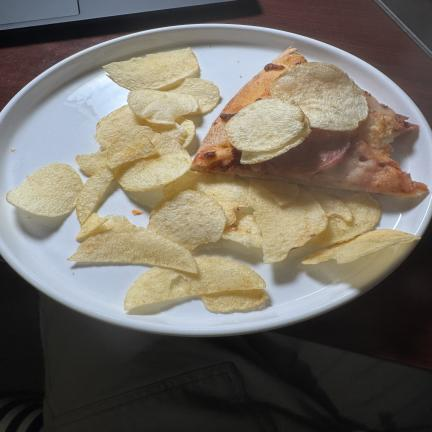chips: (125, 257, 265, 309), (271, 63, 368, 130), (249, 180, 327, 263), (69, 226, 197, 272), (148, 190, 226, 250), (164, 171, 248, 226), (95, 106, 194, 149), (226, 99, 306, 151), (302, 229, 420, 264), (7, 163, 82, 217), (104, 48, 198, 90), (312, 193, 380, 245), (115, 147, 191, 191), (241, 118, 310, 164), (95, 106, 152, 149), (128, 89, 198, 124), (76, 168, 113, 225), (106, 126, 156, 168), (170, 78, 219, 115), (200, 290, 270, 313), (76, 213, 134, 240), (223, 213, 262, 247), (312, 191, 352, 221), (255, 181, 300, 206), (76, 213, 108, 241), (76, 150, 107, 176), (175, 117, 195, 147), (101, 215, 134, 231)
pizza: (192, 48, 428, 196)
plate: (0, 25, 431, 335)
